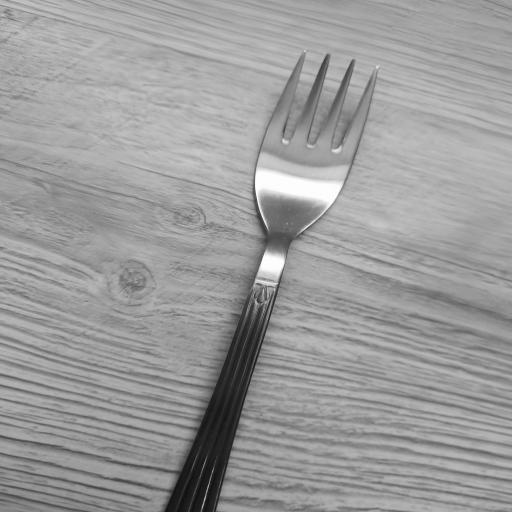fork: (162, 50, 380, 512)
